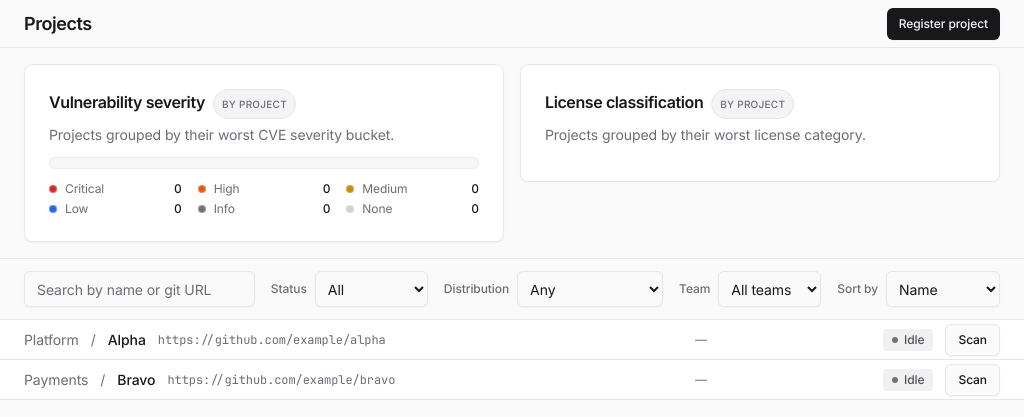
Test: ProjectListPage › narrows the list to one team when the team filter is used, and writes it to the URL
The image size is (1024, 417).
Expected: the number of elements with test id "project-row" is 2, x1=0 y1=320 x2=1023 y2=360; x1=0 y1=360 x2=1023 y2=400
Select "Payments" in the dropdown with test id "project-team-filter" at (770, 289), box x1=718 y1=271 x2=821 y2=307
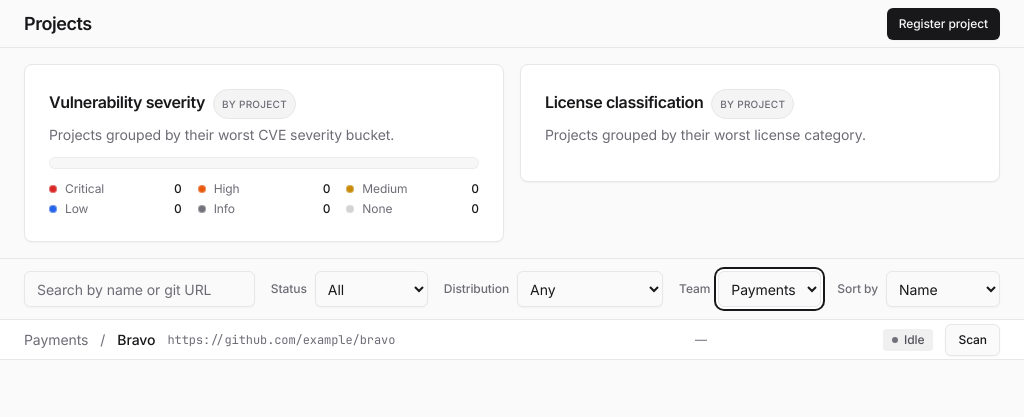
Now the number of elements with test id "project-row" is 1, box x1=0 y1=320 x2=1023 y2=360
Now the link with test id "project-row-link" reads "Bravo", box x1=117 y1=330 x2=155 y2=350
